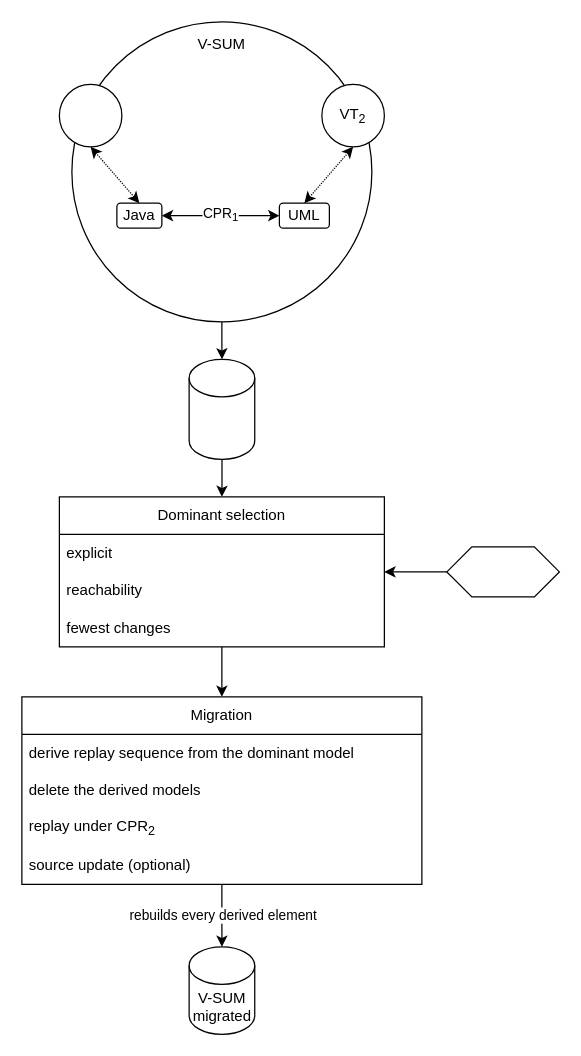
Image size: 581x1056. Some labels were removed from this diagram. The shapes that lost their labels are listed below. From the top down, each one's centre as x and y in pixels, then its label:
At (90,115): "VT 1".
At (221,408): "V-SUM persisted".
At (502,571): "CPR 2".
